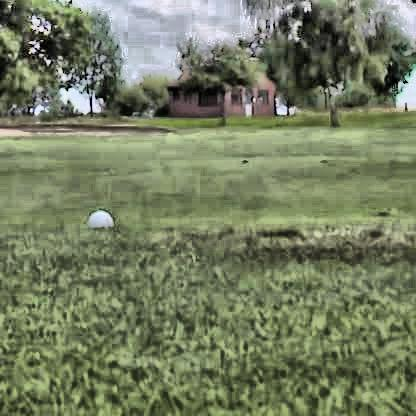golfball: (86, 208, 111, 232)
